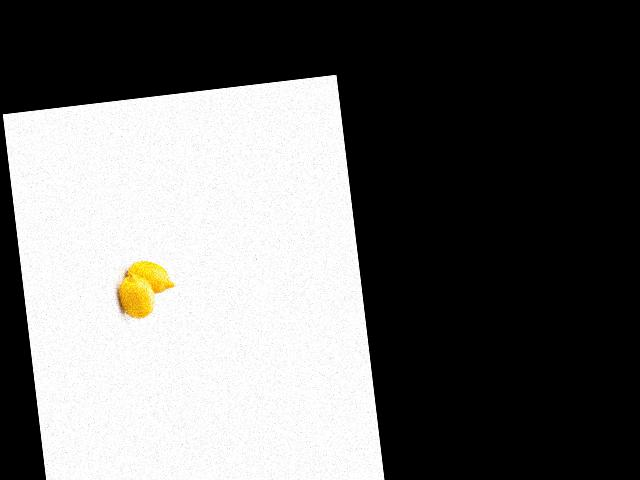lemon: (120, 266, 157, 323)
